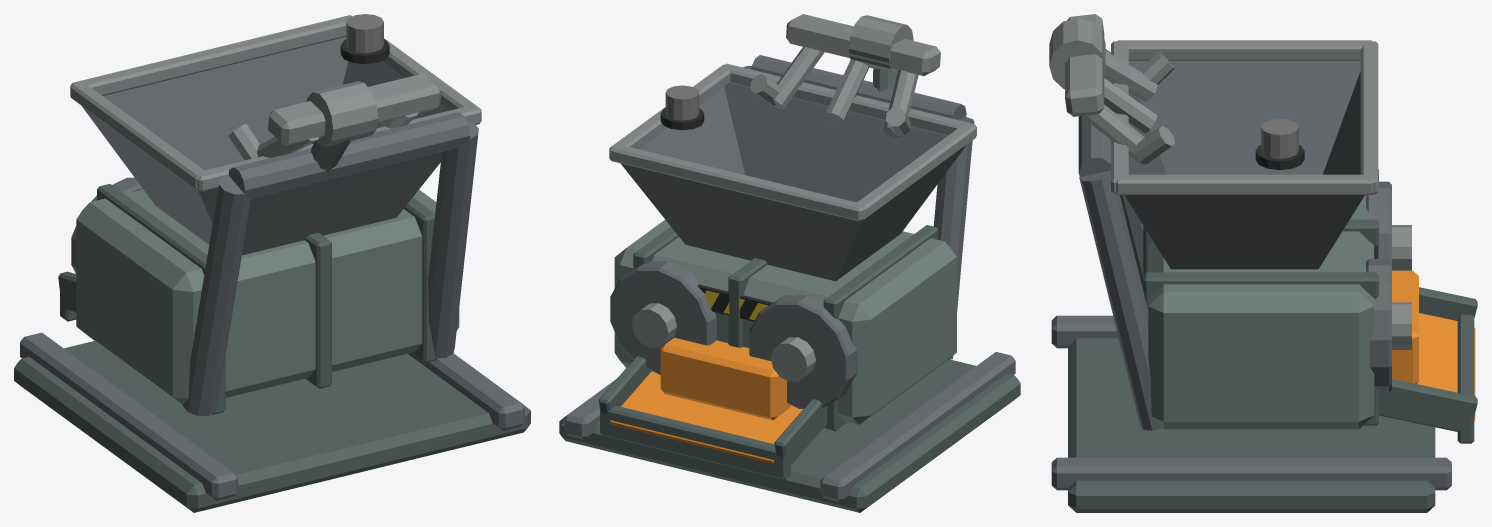
Rendered from salvager.glb.
3 renders of one model, left to right at view 1: azimuth 30°, elevation 25°; view 2: azimuth 150°, elevation 25°; view 3: azimuth 270°, elevation 25°, orthographic. The views are drawn at different scales.
Visible parts, largest first — view 1: salvager, Lamp; view 2: salvager, Lamp; view 3: salvager, Lamp.
Part boxes in pixels (bbox=[...]): salvager: bbox=[14, 15, 530, 512]; Lamp: bbox=[346, 14, 383, 53]; salvager: bbox=[559, 14, 1020, 512]; Lamp: bbox=[665, 85, 699, 120]; salvager: bbox=[1049, 14, 1477, 512]; Lamp: bbox=[1261, 119, 1298, 158].
Bounding box in the file's own units: 1.68 × 1.81 × 1.78.
